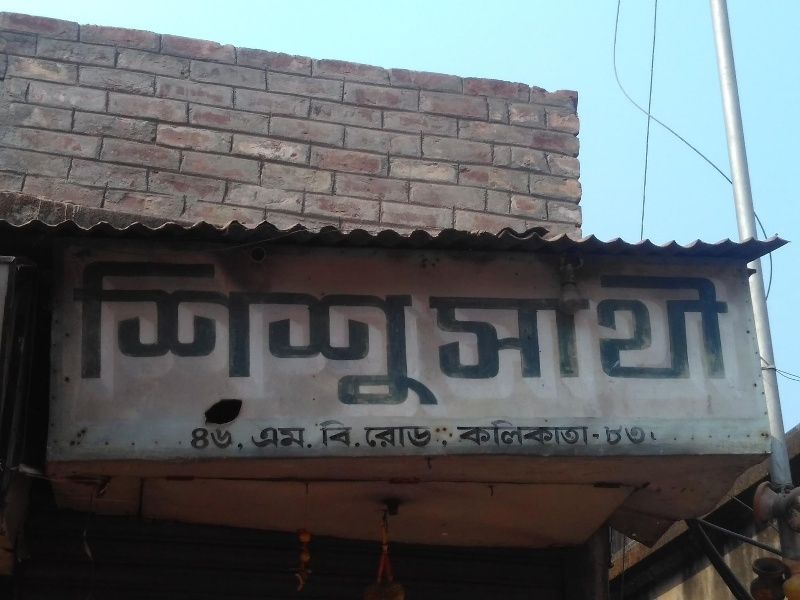text: (81, 254, 96, 414), (97, 254, 112, 414), (113, 254, 128, 414), (129, 254, 144, 414), (145, 254, 160, 414), (161, 254, 176, 414), (177, 254, 192, 414), (193, 254, 208, 414), (209, 254, 224, 414), (225, 254, 240, 414), (241, 254, 256, 414), (257, 254, 272, 414), (273, 254, 288, 414), (289, 254, 304, 414), (305, 254, 320, 414), (321, 254, 336, 414), (337, 254, 352, 414), (353, 254, 368, 414), (369, 254, 384, 414), (385, 254, 400, 414), (401, 254, 416, 414), (417, 254, 432, 414), (433, 261, 448, 384), (449, 261, 464, 384), (465, 261, 480, 384), (481, 261, 496, 384), (497, 261, 512, 384), (513, 261, 528, 384), (529, 261, 544, 384), (545, 261, 560, 384), (561, 261, 576, 384), (577, 261, 592, 384), (593, 261, 608, 384), (609, 261, 624, 384), (625, 261, 640, 384), (641, 261, 656, 384), (657, 261, 672, 384), (673, 261, 688, 384), (689, 261, 704, 384), (705, 261, 720, 384), (721, 261, 736, 384), (433, 254, 442, 414), (424, 261, 432, 384), (76, 254, 80, 414), (737, 261, 742, 384), (321, 419, 336, 457), (337, 419, 352, 457), (417, 422, 433, 453), (353, 419, 366, 457), (369, 422, 384, 453), (385, 422, 400, 453), (401, 422, 416, 453), (465, 419, 480, 450), (481, 419, 496, 450), (497, 419, 512, 450), (513, 419, 528, 450), (529, 419, 544, 450), (545, 419, 560, 450), (561, 419, 576, 450), (577, 419, 592, 450), (257, 424, 272, 453), (273, 424, 288, 453), (289, 424, 304, 453), (193, 426, 208, 451), (209, 426, 224, 451), (225, 426, 240, 451), (593, 425, 608, 449), (609, 425, 624, 449), (625, 425, 640, 449), (641, 425, 656, 449), (305, 424, 316, 453), (455, 419, 464, 450), (241, 426, 248, 451), (250, 424, 256, 453), (363, 422, 368, 453), (588, 425, 592, 449), (318, 419, 320, 457), (190, 426, 192, 451), (593, 419, 594, 450), (657, 425, 658, 449)
